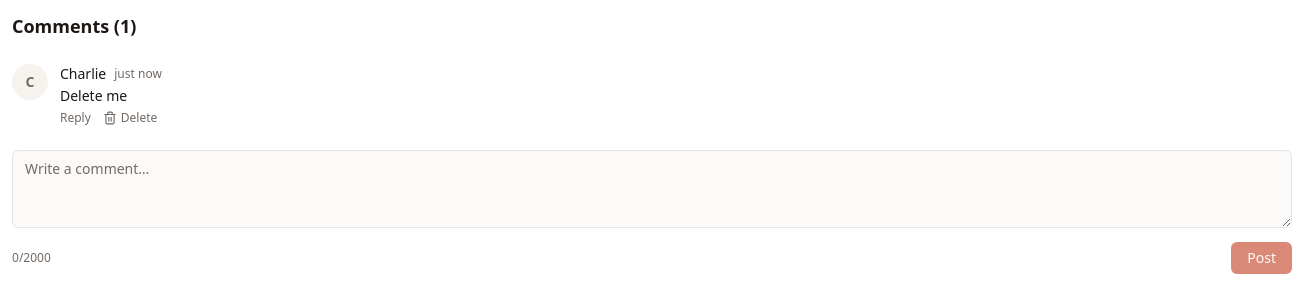
Scenario: CommentSection › deletes an own top-level comment and refreshes
The image size is (1304, 299).
Click the button with aria-label "Delete comment": (130, 118) [103,110,157,126]
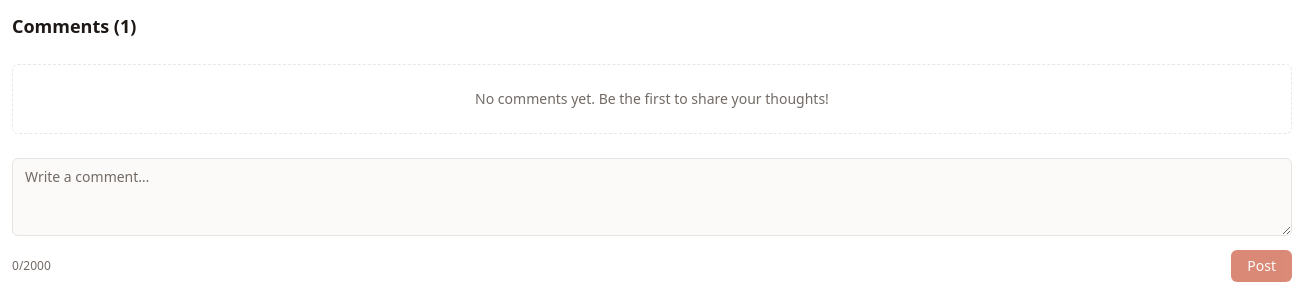
expect the text "No comments yet. Be the first to share your thoughts!" is shown: met, box [12,64,1292,134]
